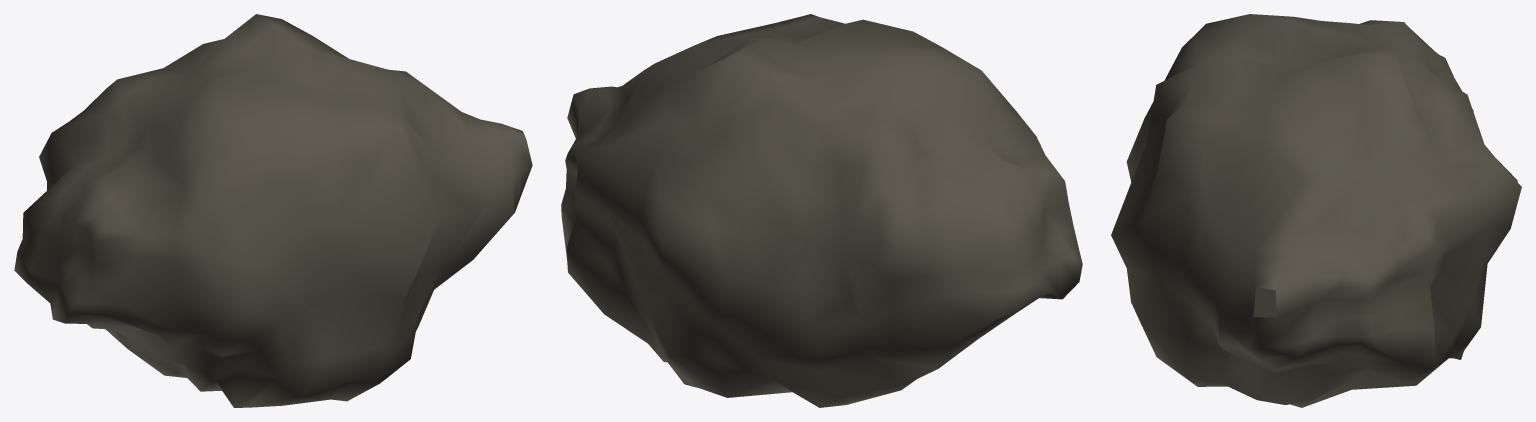
3 renders of one model, left to right at view 1: azimuth 30°, elevation 25°; view 2: azimuth 150°, elevation 25°; view 3: azimuth 270°, elevation 25°, orthographic. The views are drawn at different scales.
Visible parts, largest first — view 1: AST_02_LOD0__0; view 2: AST_02_LOD0__0; view 3: AST_02_LOD0__0.
Boxes of the visible parts, bbox=[...] form: AST_02_LOD0__0: bbox=[14, 14, 532, 407]; AST_02_LOD0__0: bbox=[561, 14, 1082, 407]; AST_02_LOD0__0: bbox=[1111, 14, 1521, 407].
Size of the model in its own units: 25.02 by 16.4 by 18.06.
1 material, 1 textured.
